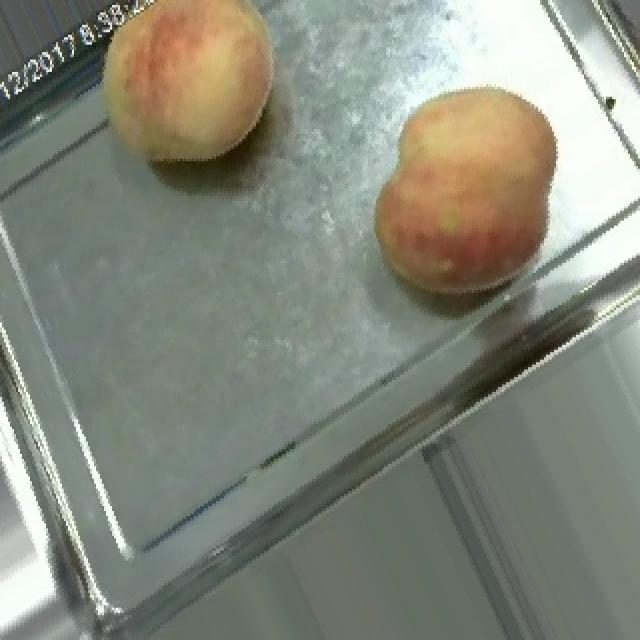Fruit: (348, 65, 588, 328), (68, 0, 296, 191)
